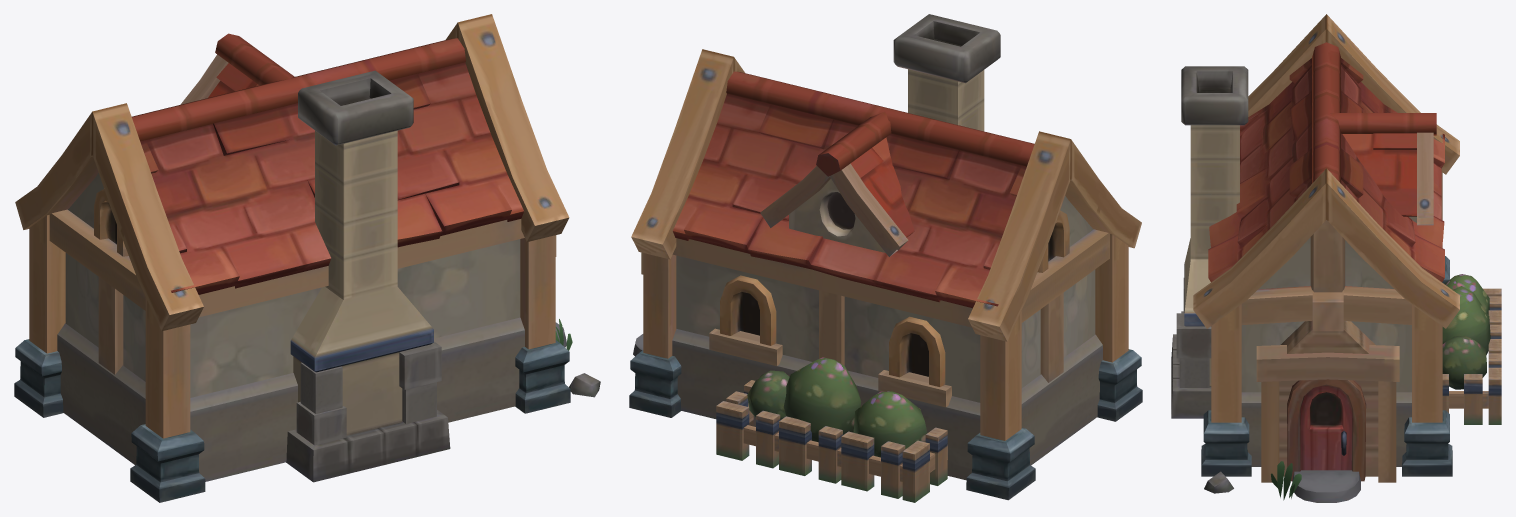
The model's file is house1.glb.
The picture shows the model from 3 angles, left to right: view 1: azimuth 30°, elevation 25°; view 2: azimuth 150°, elevation 25°; view 3: azimuth 270°, elevation 25°; orthographic projection. The views are drawn at different scales.
Visible parts, largest first — view 1: model_0; view 2: model_0; view 3: model_0.
Part boxes in pixels (box(x1,y1,x2,y2)): model_0: box(14, 14, 600, 502); model_0: box(629, 14, 1142, 502); model_0: box(1171, 14, 1501, 502).
Bounding box in the file's own units: 2029 × 1494 × 1417.
1 material, 1 textured.
